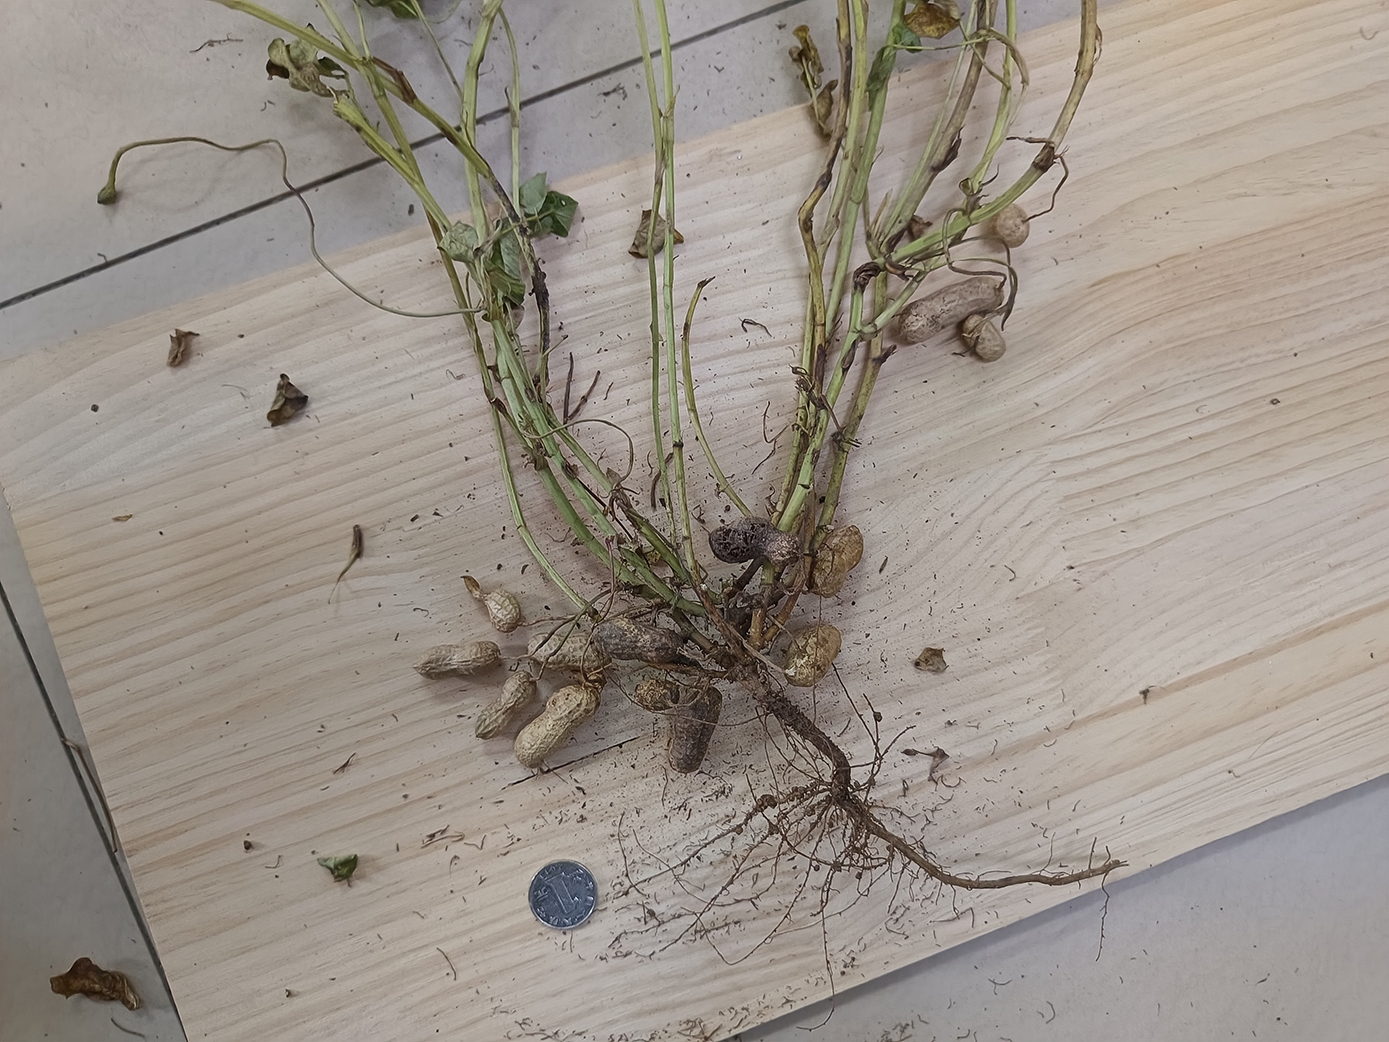h: (898, 277, 1005, 343), (516, 684, 601, 763), (784, 622, 842, 687), (812, 524, 864, 598), (526, 630, 607, 673), (413, 640, 502, 678), (479, 678, 534, 733), (962, 313, 1004, 364), (994, 202, 1030, 248)
l: (709, 517, 803, 568), (670, 688, 721, 776), (459, 575, 521, 633), (603, 618, 680, 665), (633, 676, 676, 709)
